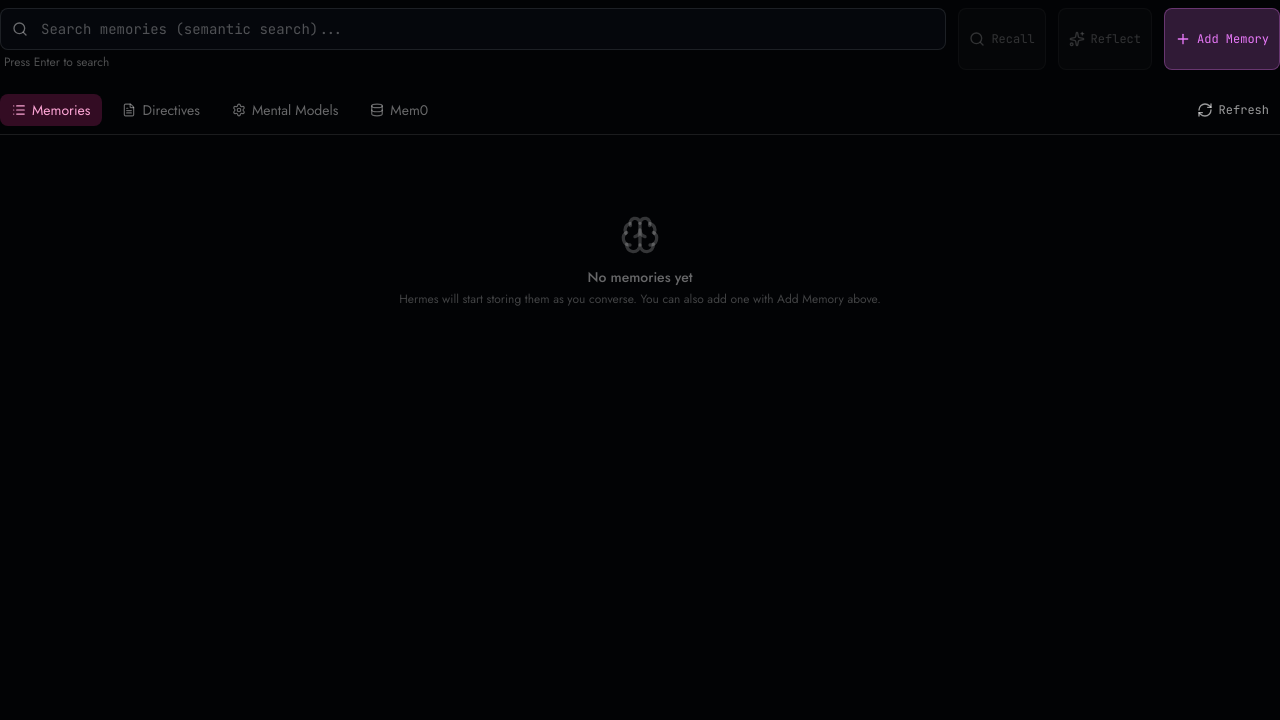
Test: HindsightBrowser › directives tab empty state offers CTA that opens create modal
Expected: the heading "No memories yet" is shown, [588,267,692,287]
What coordinates should you click on to do the following:
click the button "Directives"
I would click on:
 (161, 110)
Its box is [110,94,212,126].
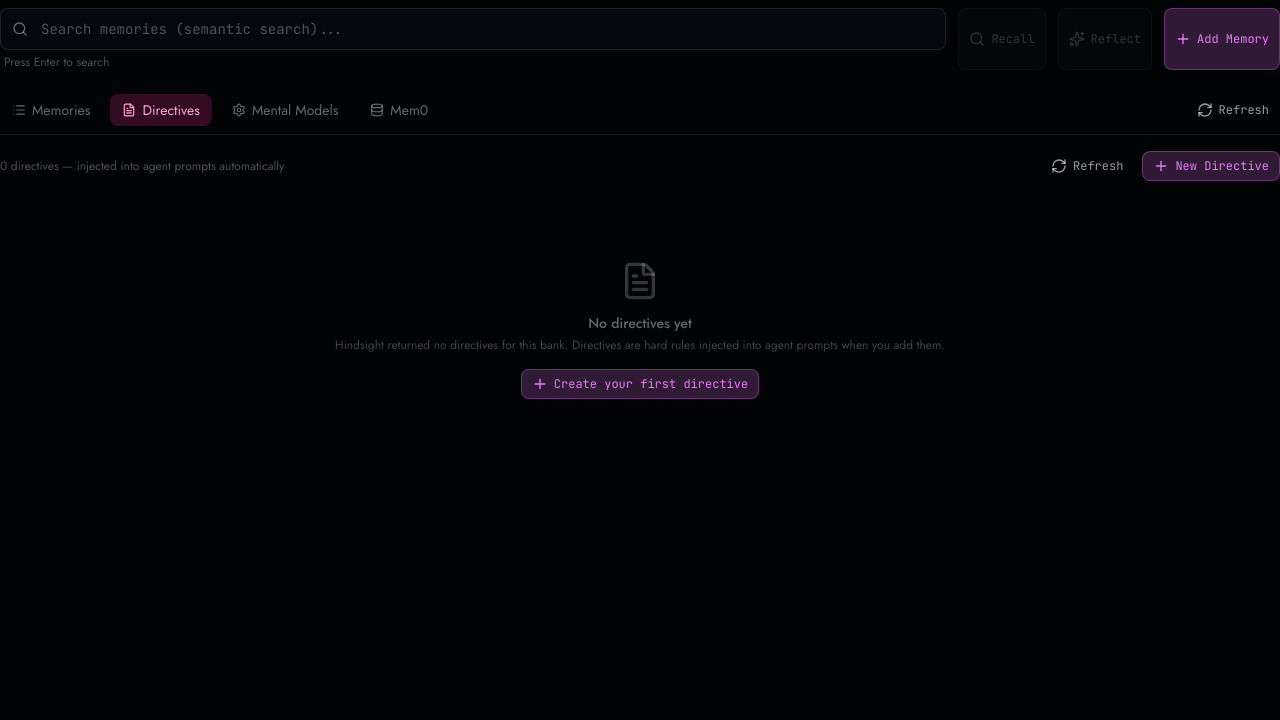
Expected: the button "Create your first directive" is shown
What coordinates should you click on to do the following:
click the button "Create your first directive"
I would click on:
 (640, 384)
Its box is [521,369,759,399].
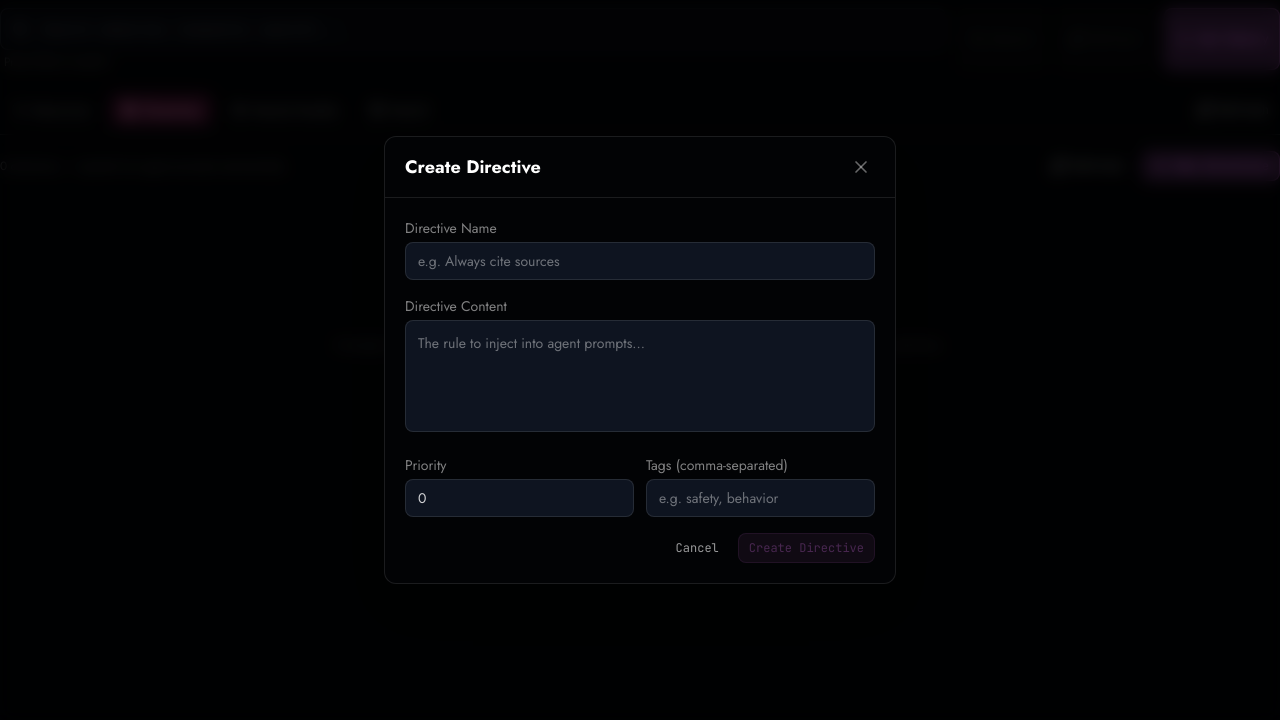
Expected: the field with placeholder "e.g. Always cite sources" is shown, [405,242,875,280]
